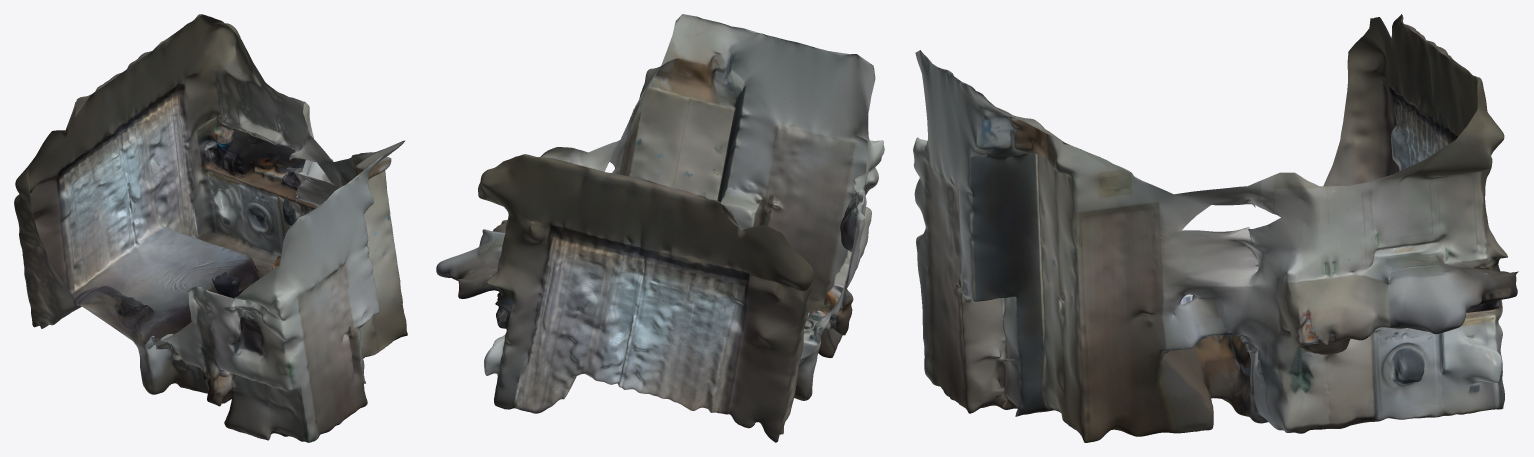
The model's file is room.glb.
3 views of the same model, side by side, from view 1: azimuth 30°, elevation 25°; view 2: azimuth 150°, elevation 25°; view 3: azimuth 270°, elevation 25° (orthographic). The views are drawn at different scales.
Visible parts, largest first — view 1: 3DModel; view 2: 3DModel; view 3: 3DModel.
Part boxes in pixels (left/top/right/bottom): 3DModel: left=14, top=14, right=407, bottom=442; 3DModel: left=436, top=14, right=884, bottom=442; 3DModel: left=913, top=14, right=1518, bottom=442.
Bounding box in the file's own units: 1.81 × 1.48 × 2.18.
1 material, 1 textured.
